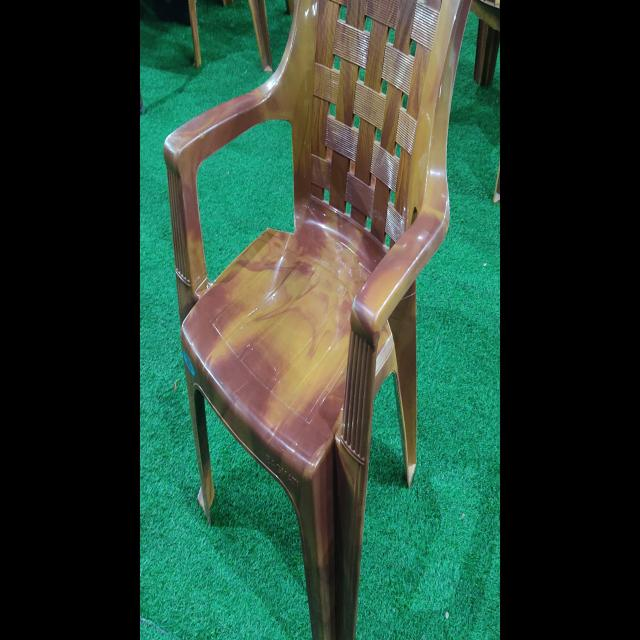Chair: (163, 1, 472, 638)
